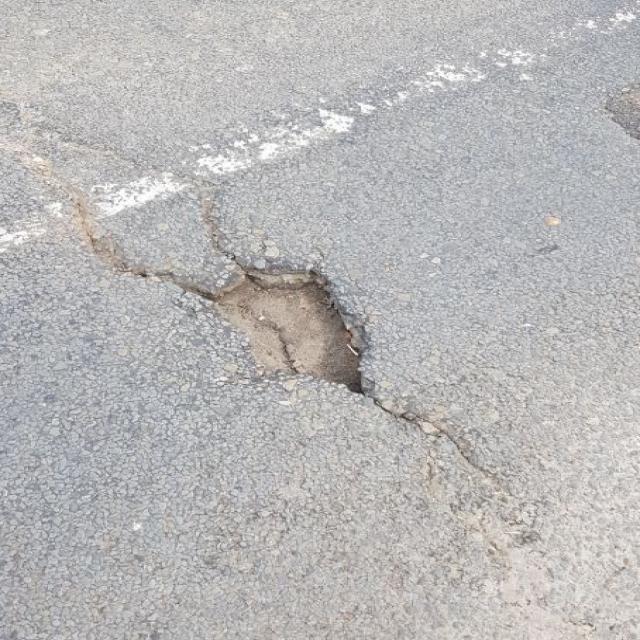pothole: (178, 248, 396, 396)
